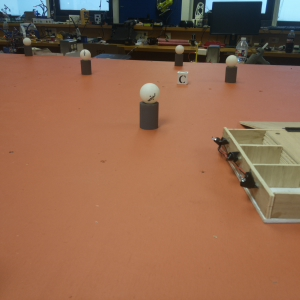blockC: (177, 71, 189, 87)
obstacle: (139, 83, 160, 130), (225, 54, 239, 83), (80, 49, 93, 77), (175, 45, 185, 69), (23, 37, 31, 58)
side: (208, 129, 295, 223)
